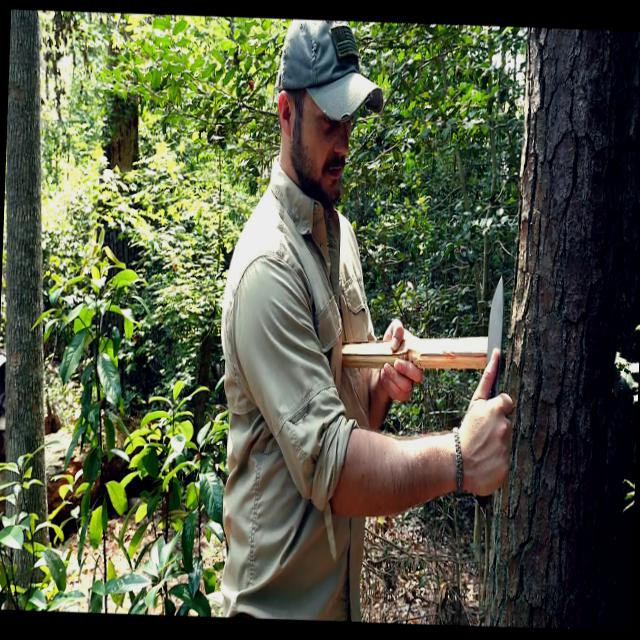knife: (464, 266, 522, 478)
